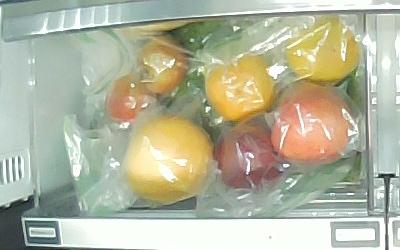apple_vinyl: (272, 81, 353, 165), (215, 124, 285, 189)
grapefruit_vinyl: (124, 114, 214, 203)
persimmon_vinyl: (205, 52, 278, 122), (285, 16, 359, 83)
prune_vinyl: (138, 37, 188, 94), (108, 75, 153, 121)
